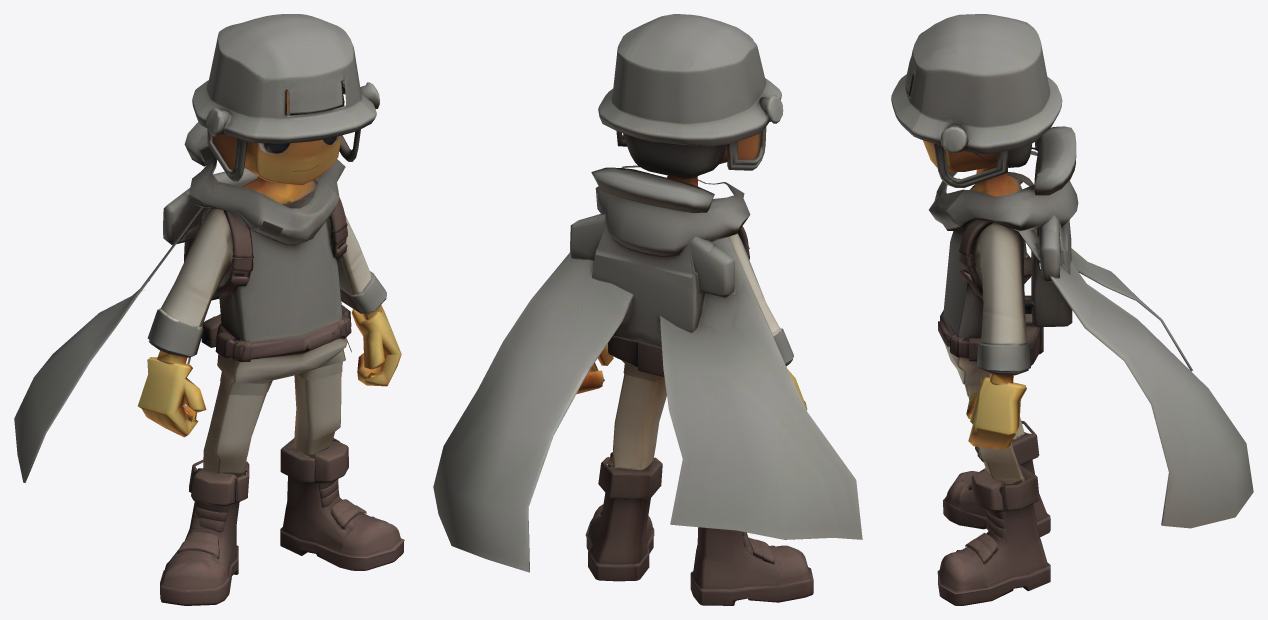
Rendered from character.glb.
3 views of the same model, side by side, from view 1: azimuth 30°, elevation 25°; view 2: azimuth 150°, elevation 25°; view 3: azimuth 270°, elevation 25° (orthographic). The views are drawn at different scales.
Parts seen in each view (by area): view 1: dc1718bb_2d4f_4574_9486_7b7dd74e430c; view 2: dc1718bb_2d4f_4574_9486_7b7dd74e430c; view 3: dc1718bb_2d4f_4574_9486_7b7dd74e430c.
Boxes of the visible parts, left/top/right/bottom form: dc1718bb_2d4f_4574_9486_7b7dd74e430c: left=14, top=14, right=404, bottom=605; dc1718bb_2d4f_4574_9486_7b7dd74e430c: left=433, top=14, right=862, bottom=605; dc1718bb_2d4f_4574_9486_7b7dd74e430c: left=891, top=14, right=1253, bottom=605.
Size of the model in its own units: 0.7251 by 0.998 by 0.6157.
1 material, 1 textured.
